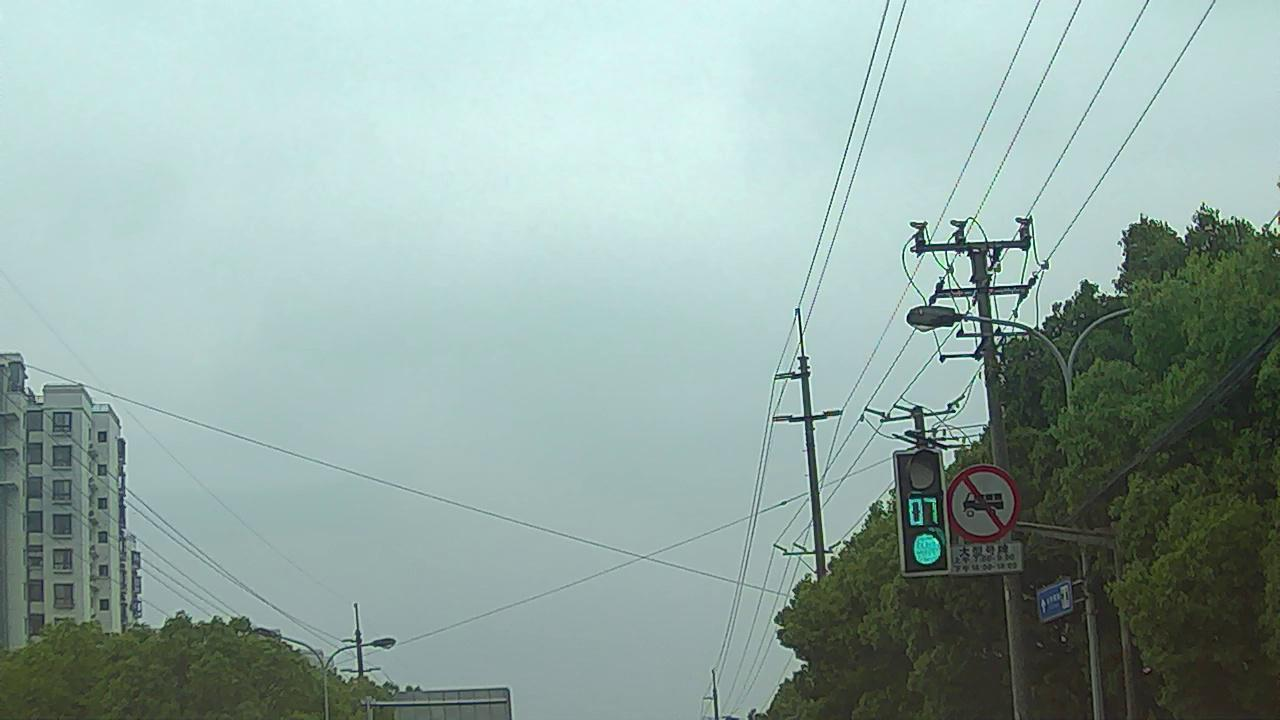traffic_light: (897, 451, 948, 575)
